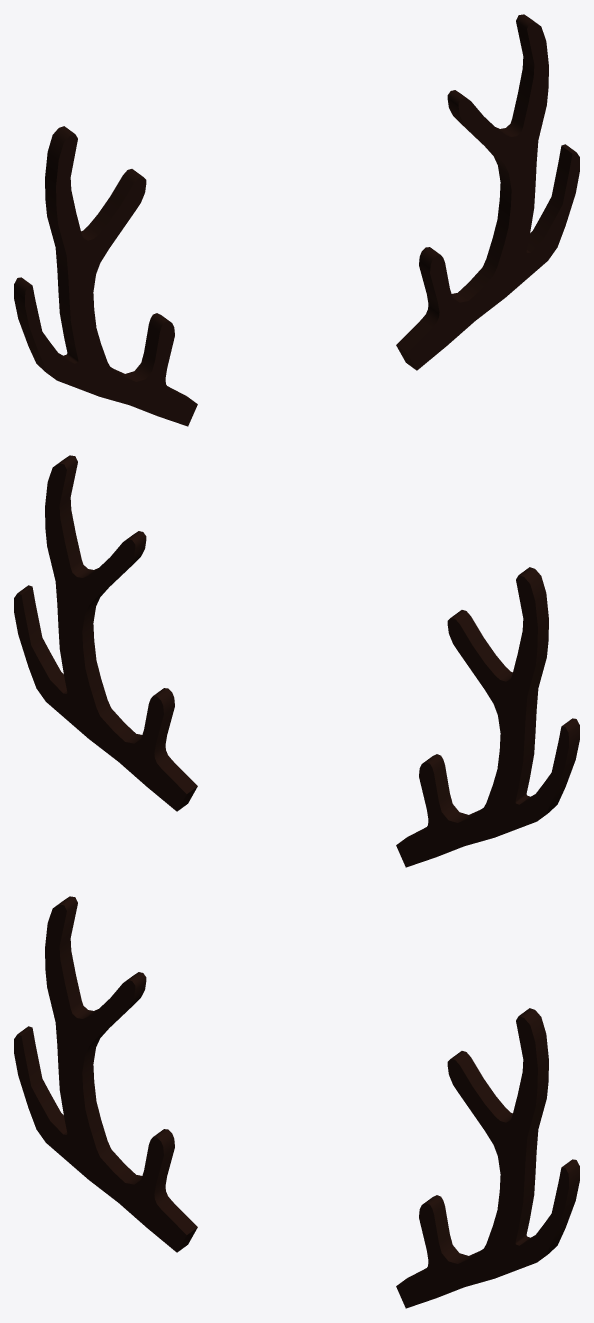
Rendered from antlers_2023.obj.
The picture shows the model from 3 angles, top to bottom: view 1: azimuth 30°, elevation 25°; view 2: azimuth 150°, elevation 25°; view 3: azimuth 330°, elevation 25°; orthographic projection.
Visible parts, largest first — view 1: 0; view 2: 0; view 3: 0.
Boxes of the visible parts, x1,y1,x2,y2 form: 0: (14, 14, 579, 426); 0: (14, 455, 579, 867); 0: (14, 896, 579, 1308).
Size of the model in its own units: 0.8356 by 0.4604 by 0.0289.
